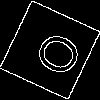O: (25, 25, 84, 80)
